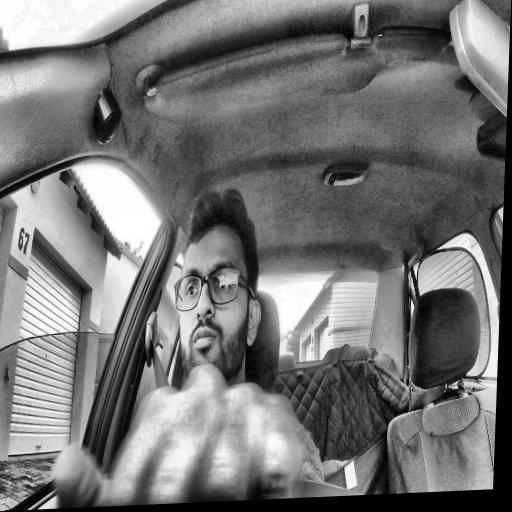awake: (170, 186, 266, 392)
